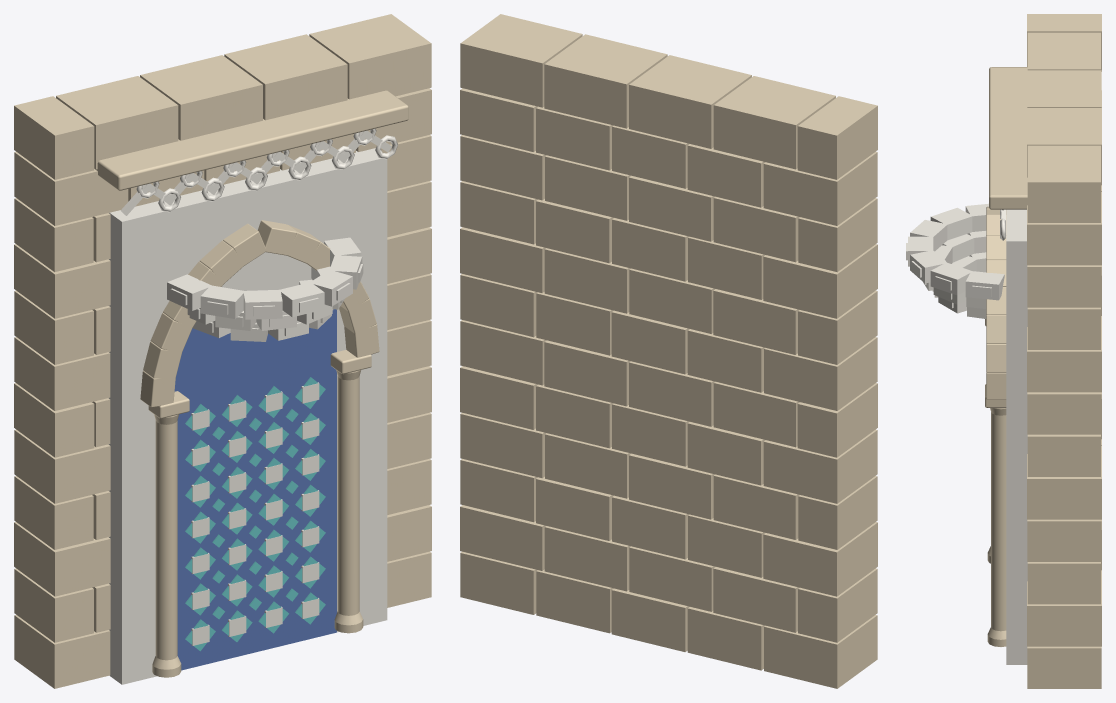
File: qibla-wall-section-bab24279.glb
3 renders of one model, left to right at view 1: azimuth 30°, elevation 25°; view 2: azimuth 150°, elevation 25°; view 3: azimuth 270°, elevation 25°, orthographic. The views are drawn at different scales.
Visible parts, largest first — view 1: qibla-wall-section-with-mihrab; view 2: qibla-wall-section-with-mihrab; view 3: qibla-wall-section-with-mihrab.
Boxes of the visible parts, x1,y1,x2,y2 form: qibla-wall-section-with-mihrab: [14, 14, 431, 688]; qibla-wall-section-with-mihrab: [460, 14, 877, 688]; qibla-wall-section-with-mihrab: [906, 14, 1101, 688].
Bounding box in the file's own units: 2.98 × 4.19 × 1.47.
